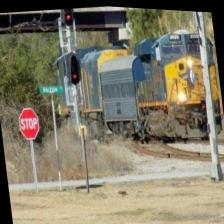Stop: (18, 104, 41, 140)
